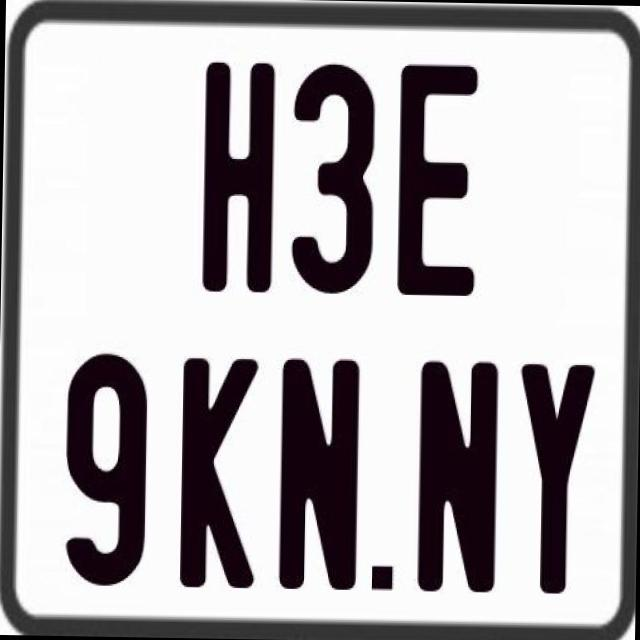3: (290, 62, 378, 300)
9: (61, 353, 150, 589)
E: (392, 60, 474, 298)
H: (202, 60, 282, 298)
K: (180, 356, 264, 590)
N: (274, 353, 364, 586), (414, 357, 504, 590)
Y: (514, 362, 592, 602)
